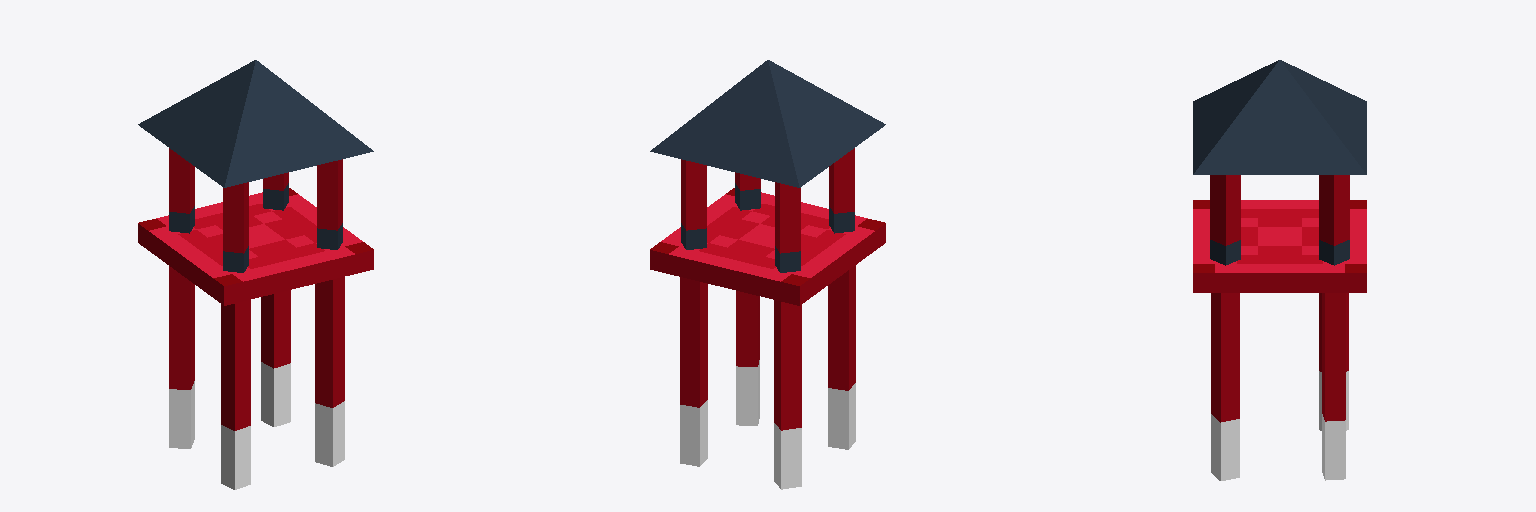
3 views of the same model, side by side, from view 1: azimuth 30°, elevation 25°; view 2: azimuth 150°, elevation 25°; view 3: azimuth 270°, elevation 25° (orthographic).
Visible parts, largest first — view 1: cube, pyramid; view 2: cube, pyramid; view 3: cube, pyramid.
Boxes of the visible parts, x1,y1,x2,y2 form: cube: [138, 148, 373, 489]; pyramid: [138, 60, 373, 187]; cube: [650, 148, 885, 489]; pyramid: [650, 60, 885, 187]; cube: [1193, 175, 1366, 480]; pyramid: [1193, 60, 1366, 174].
Bounding box in the file's own units: 0.25 × 0.625 × 0.25.
1 materials, 1 textured.